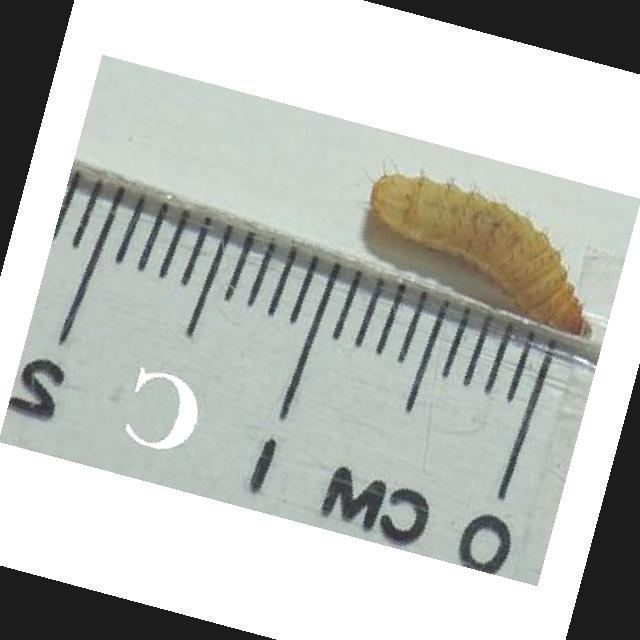Maggot: (361, 162, 601, 338)
